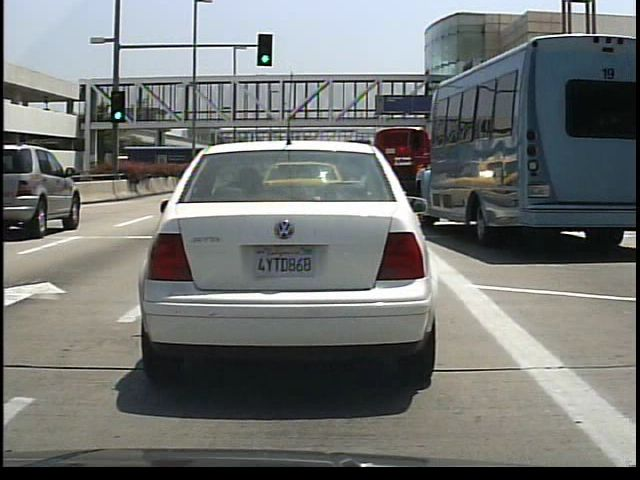car: (132, 141, 432, 388), (428, 27, 640, 243), (1, 141, 84, 235)
